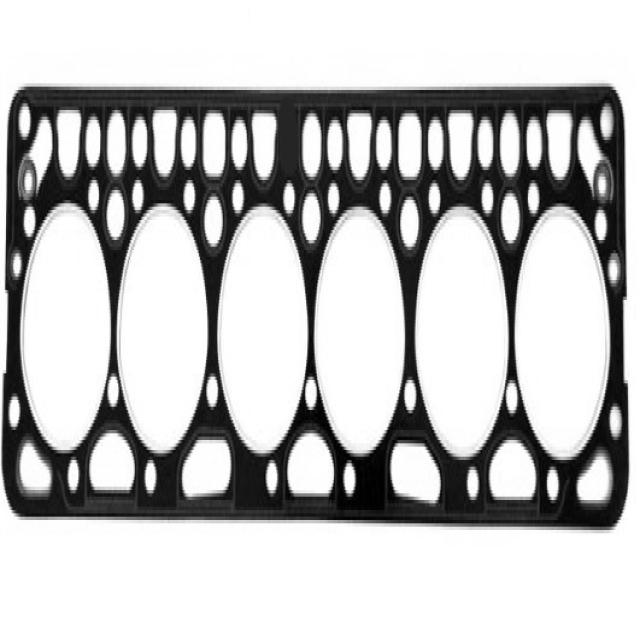missing hole: (274, 83, 303, 198)
